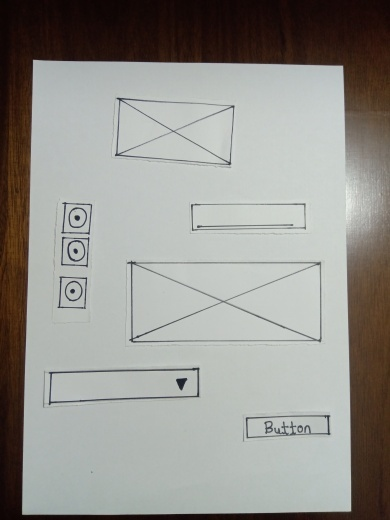button: (244, 418, 330, 440)
dropdown: (50, 373, 200, 405)
img: (132, 264, 324, 344), (117, 100, 231, 164)
radio: (55, 278, 86, 308), (63, 204, 91, 234), (64, 240, 87, 266)
text: (192, 204, 310, 228)
